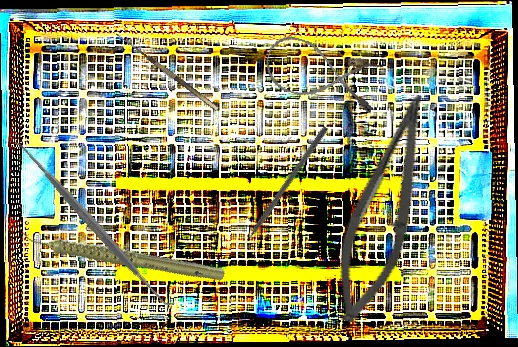Cannula: (259, 31, 386, 117)
Handpiece: (19, 187, 227, 321)
Hook Surgical: (111, 31, 219, 117)
Micro Scissor: (324, 86, 440, 330)
Pusher: (232, 124, 330, 258)
Spatula Surgical: (9, 132, 179, 317)
